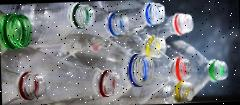plastic: (0, 41, 123, 105)
